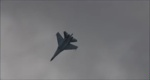maybay_muctieu: (50, 29, 78, 63)
